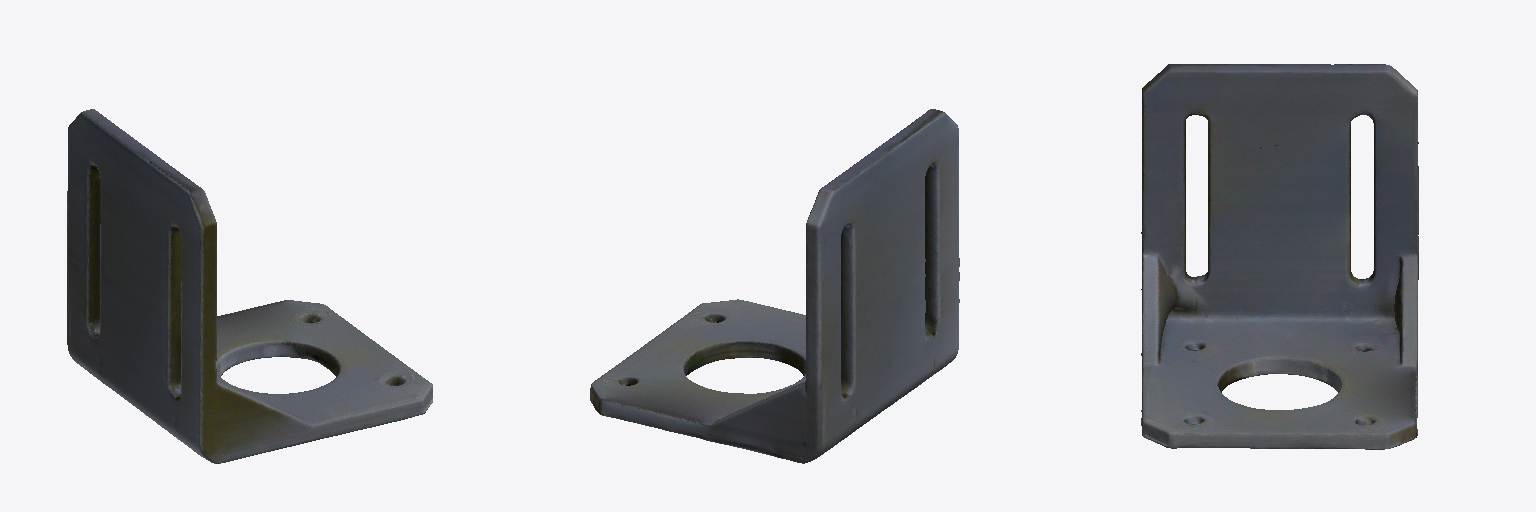
The picture shows the model from 3 angles: view 1: azimuth 30°, elevation 25°; view 2: azimuth 150°, elevation 25°; view 3: azimuth 270°, elevation 25°; orthographic projection.
Visible parts, largest first — view 1: nema17_holder2; view 2: nema17_holder2; view 3: nema17_holder2.
Part boxes in pixels (left/top/right/bottom): nema17_holder2: left=67, top=109, right=432, bottom=463; nema17_holder2: left=590, top=109, right=959, bottom=463; nema17_holder2: left=1141, top=64, right=1418, bottom=449.
Bounding box in the file's own units: 0.0515 × 0.0532 × 0.0499.
1 materials, 1 textured.